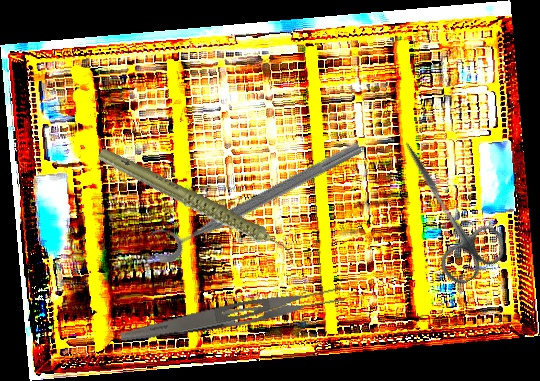Dressing Forceps: (118, 280, 347, 353)
Fixation Ring: (145, 124, 366, 267)
Handpiece: (93, 110, 300, 302)
Iris Scissors: (374, 125, 513, 291)
